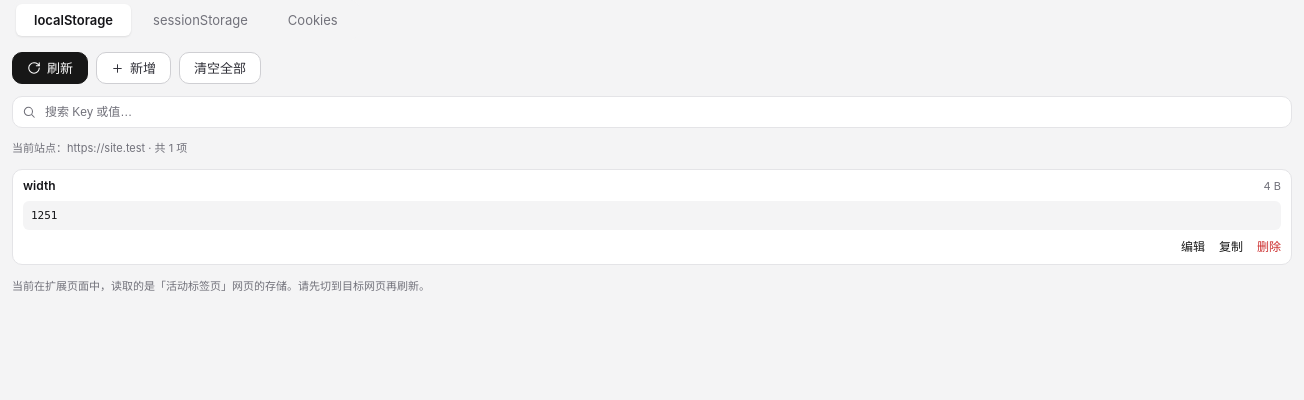
StorageTool 编辑与写入 › 编辑值为裸标量的已有条目：按普通值打开（不美化、不套 JSON 编辑器）
Click the button "编辑". click: [1193, 247]
box: [1181,238,1205,256]
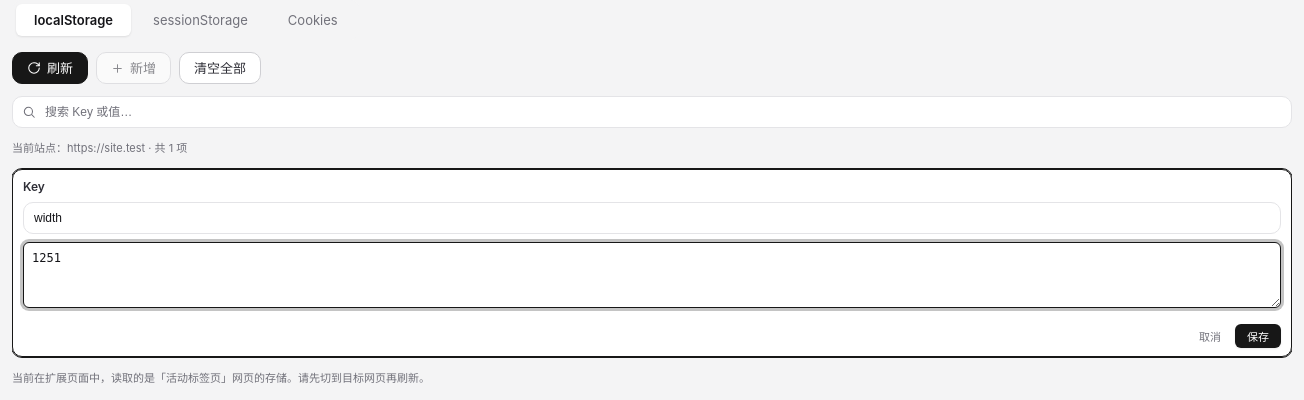
Result: the text box holds "1251" at [23,242,1281,308]
